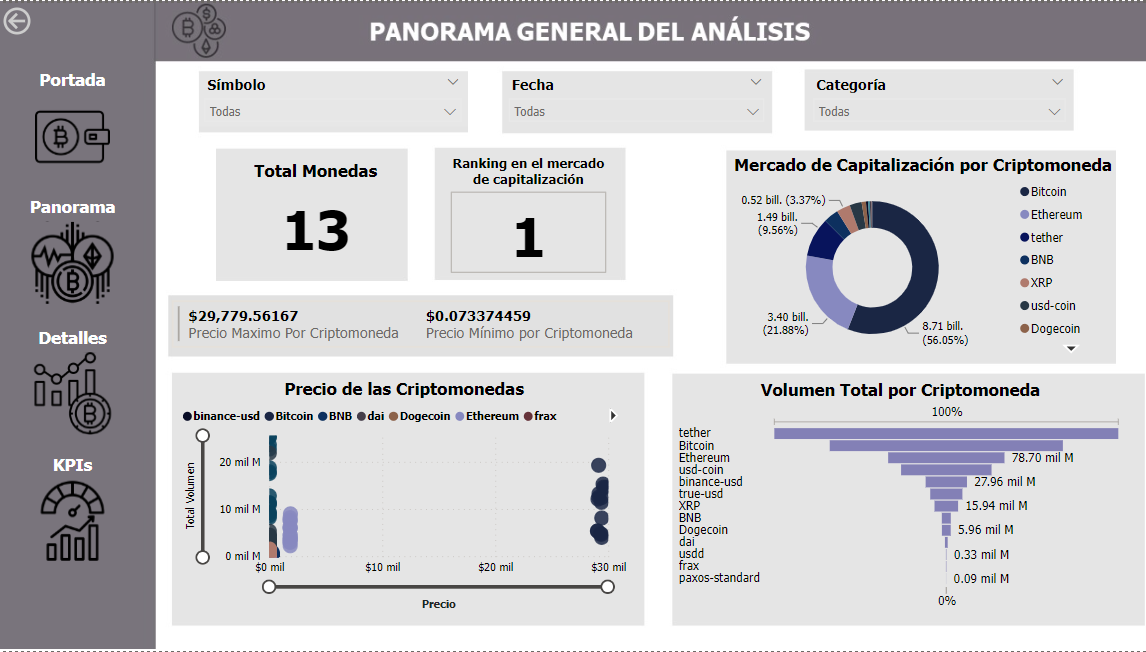

The dashboard page shown, as its layout file describes it:
{"tool":"powerbi","page":{"name":"Panorama","canvas":[1280,720],"ordinal":1},"visuals":[{"type":"scatterChart","title":"Precio de las Criptomonedas","fields":{"X":["Cryptocurrency.Price"],"Y":["Cryptocurrency.TotalVolume"],"Series":["Cryptocurrency.Currency"]},"box":[198.3,416.7,503.3,260],"z":0},{"type":"slicer","fields":{"Values":["Cripto_Id.Symbol"]},"box":[218.3,75,305,61.7],"z":1000},{"type":"slicer","fields":{"Values":["calendario.Date"]},"box":[556.7,75,303.3,73.3],"z":2000},{"type":"multiRowCard","fields":{"Values":["Cryptocurrency.Precio Maximo Por Criptomoneda","Cryptocurrency.Precio Mínimo por Criptomoneda"]},"box":[186.7,325,563.3,71.7],"z":3000},{"type":"actionButton","box":[0,0,100,40],"z":4000},{"type":"cardVisual","title":"Total Monedas","fields":{"Data":["Cryptocurrency.Total Monedas"]},"box":[278.3,175,148.3,121.7],"z":5000},{"type":"donutChart","title":"Mercado de Capitalización por Criptomoneda","fields":{"Category":["Cryptocurrency.Currency"],"Y":["Sum(Cryptocurrency.MarketCap)"]},"box":[801.7,168.3,450,228.3],"z":6000},{"type":"funnel","title":"Volumen Total por Criptomoneda","fields":{"Category":["Cryptocurrency.Currency"],"Y":["Sum(Cryptocurrency.TotalVolume)"]},"box":[750,418.3,503.3,258.3],"z":7000},{"type":"slicer","fields":{"Values":["Cripto_Id.Category"]},"box":[895,75,300,61.7],"z":8000},{"type":"cardVisual","title":"Ranking en el mercado de capitalización","fields":{"Data":["Min(Cripto_Id.Ranking)"]},"box":[496.7,168.3,183.3,136.7],"z":9000},{"type":"actionButton","title":"Portada","box":[0,73.3,163.3,123.3],"z":9001},{"type":"actionButton","title":"Panorama","box":[0,215,163.3,123.3],"z":9002},{"type":"actionButton","title":"Detalles","box":[0,360,163.3,123.3],"z":9003},{"type":"actionButton","title":"KPIs","box":[0,501.7,163.3,123.3],"z":9004}]}

Visuals, with their boxes on the page's 1280x720 design canvas (x1, y1, x2, y2). These are canvas units, not pixel positions in the 1146x652 screenshot, which may show the page scaled, cropped or inside an application window:
"Precio de las Criptomonedas" scatterChart: (x1=198, y1=417, x2=702, y2=677)
slicer - Cripto_Id.Symbol: (x1=218, y1=75, x2=523, y2=137)
slicer - calendario.Date: (x1=557, y1=75, x2=860, y2=148)
multiRowCard - Cryptocurrency.Precio Maximo Por Criptomoneda x Cryptocurrency.Precio Mínimo por Criptomoneda: (x1=187, y1=325, x2=750, y2=397)
actionButton: (x1=0, y1=0, x2=100, y2=40)
"Total Monedas" cardVisual: (x1=278, y1=175, x2=427, y2=297)
"Mercado de Capitalización por Criptomoneda" donutChart: (x1=802, y1=168, x2=1252, y2=397)
"Volumen Total por Criptomoneda" funnel: (x1=750, y1=418, x2=1253, y2=677)
slicer - Cripto_Id.Category: (x1=895, y1=75, x2=1195, y2=137)
"Ranking en el mercado de capitalización" cardVisual: (x1=497, y1=168, x2=680, y2=305)
"Portada" actionButton: (x1=0, y1=73, x2=163, y2=197)
"Panorama" actionButton: (x1=0, y1=215, x2=163, y2=338)
"Detalles" actionButton: (x1=0, y1=360, x2=163, y2=483)
"KPIs" actionButton: (x1=0, y1=502, x2=163, y2=625)
